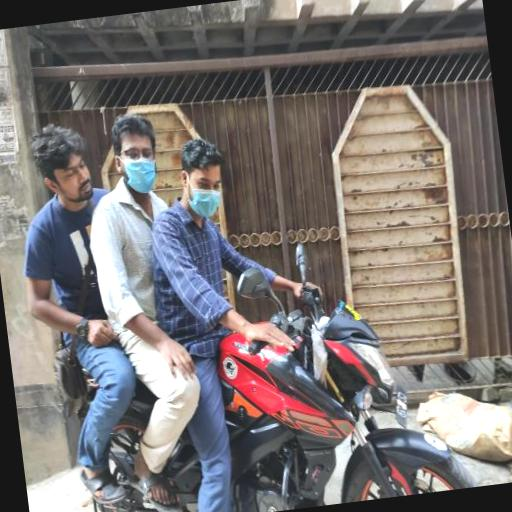no helmet: (166, 123, 243, 260)
triple riding: (0, 55, 475, 512)
